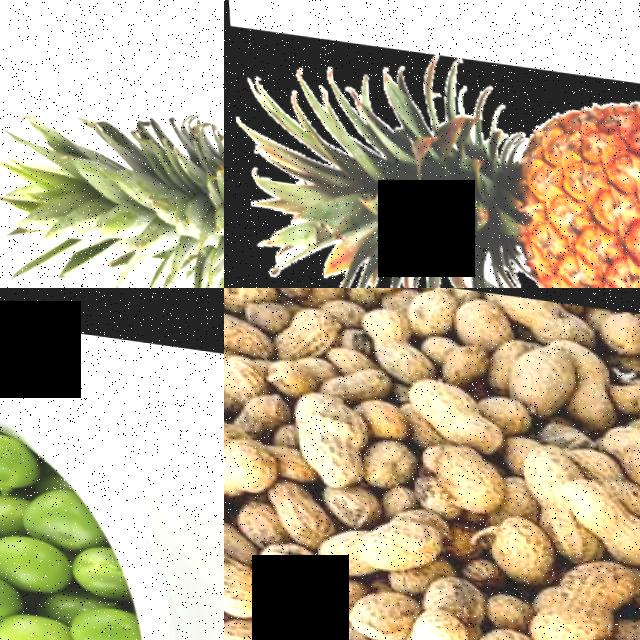peanuts: (517, 553, 616, 640), (284, 385, 368, 481), (325, 505, 438, 574), (250, 536, 328, 634), (403, 370, 492, 440), (501, 330, 581, 406), (427, 437, 506, 510), (356, 298, 429, 376), (476, 506, 548, 576), (332, 579, 410, 640), (224, 540, 260, 620), (613, 426, 640, 496)
peas: (0, 366, 118, 640)
pineapple: (388, 44, 640, 288), (122, 52, 224, 288)
